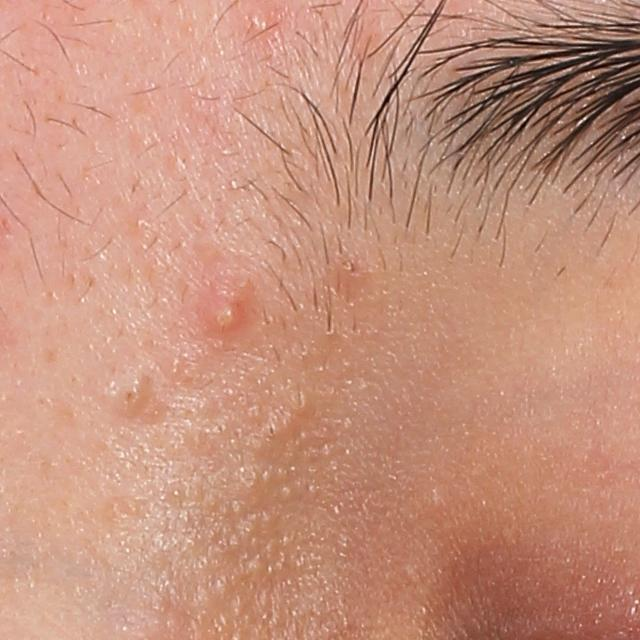comedo: (108, 378, 151, 418)
pustule: (201, 285, 256, 341)
